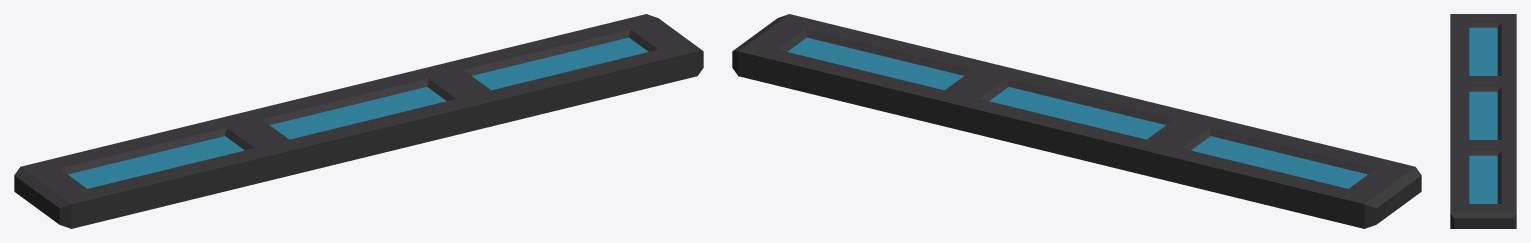
The model's file is SM_spirit_level.gltf.
3 views of the same model, side by side, from view 1: azimuth 30°, elevation 25°; view 2: azimuth 150°, elevation 25°; view 3: azimuth 270°, elevation 25° (orthographic). The views are drawn at different scales.
Parts seen in each view (by area): view 1: SM_spirit_level; view 2: SM_spirit_level; view 3: SM_spirit_level.
Part boxes in pixels (x1,y1,x2,y2): SM_spirit_level: (14,14,703,228); SM_spirit_level: (732,14,1421,228); SM_spirit_level: (1450,14,1516,228).
Size of the model in its own units: 0.7967 by 0.0293 by 0.1096.
Materials: 1 (1 with a texture image).
